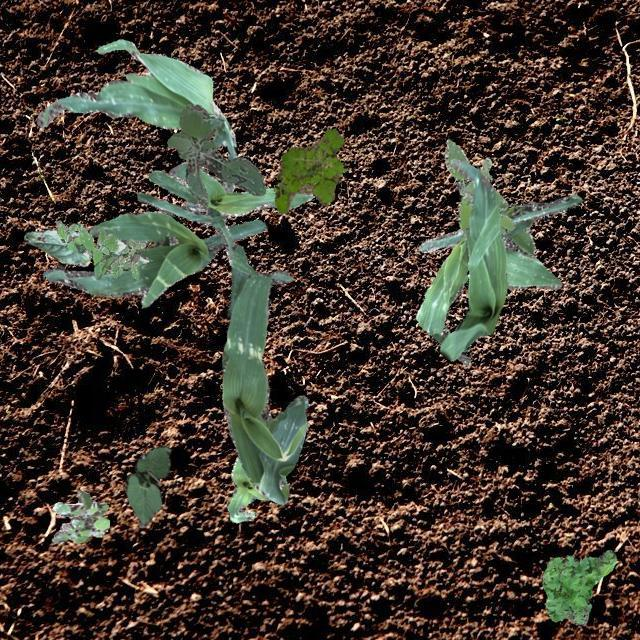crop: (35, 38, 236, 210), (414, 194, 582, 366), (220, 243, 306, 504), (42, 210, 266, 306), (136, 164, 314, 264), (440, 158, 508, 360), (22, 228, 148, 264), (124, 444, 170, 526), (226, 456, 268, 522)
weed: (166, 102, 266, 204), (444, 138, 514, 235), (274, 128, 346, 212), (540, 548, 616, 624), (56, 220, 144, 278), (51, 490, 108, 542)
